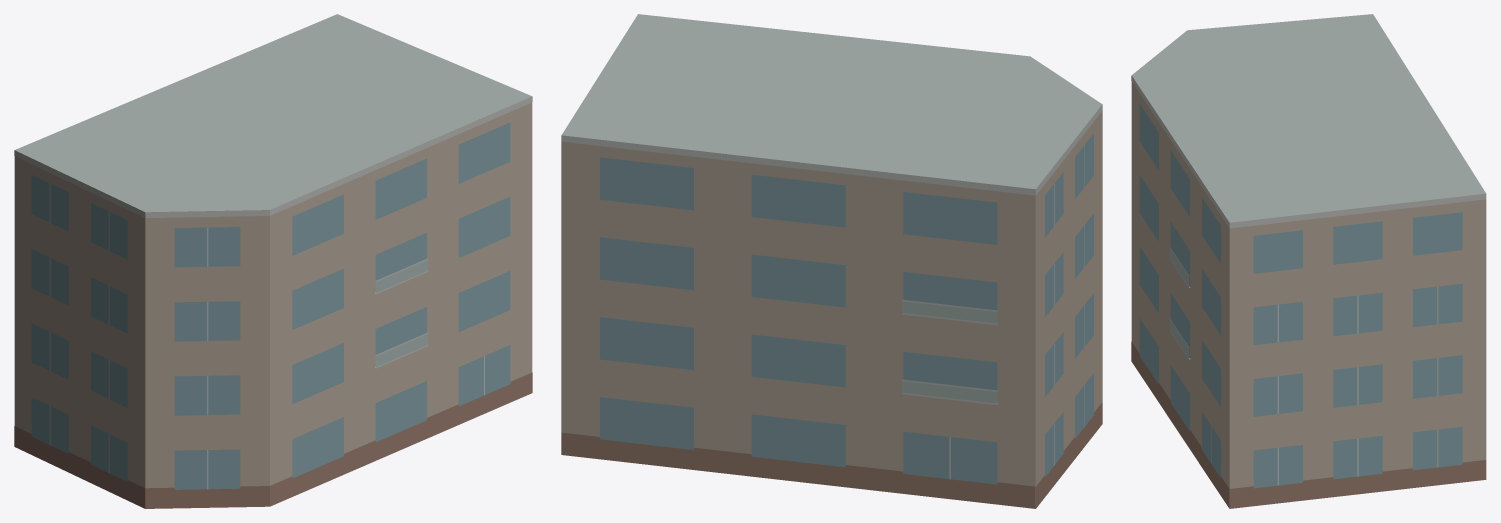
The model's file is survey-upis-32562107.glb.
The picture shows the model from 3 angles, left to right: view 1: azimuth 30°, elevation 25°; view 2: azimuth 150°, elevation 25°; view 3: azimuth 270°, elevation 25°; orthographic projection. The views are drawn at different scales.
Parts seen in each view (by area): view 1: survey-upis-32562107.tmp; view 2: survey-upis-32562107.tmp; view 3: survey-upis-32562107.tmp.
Part boxes in pixels (x1=…): survey-upis-32562107.tmp: x1=14, y1=14, x2=532, y2=508; survey-upis-32562107.tmp: x1=561, y1=14, x2=1102, y2=508; survey-upis-32562107.tmp: x1=1131, y1=14, x2=1486, y2=508.
Bounding box in the file's own units: 19.1 × 12.2 × 13.72.
